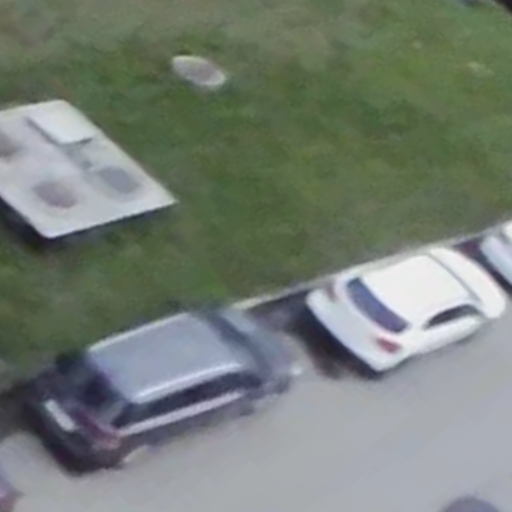Car: (27, 300, 298, 478), (306, 240, 506, 388)
